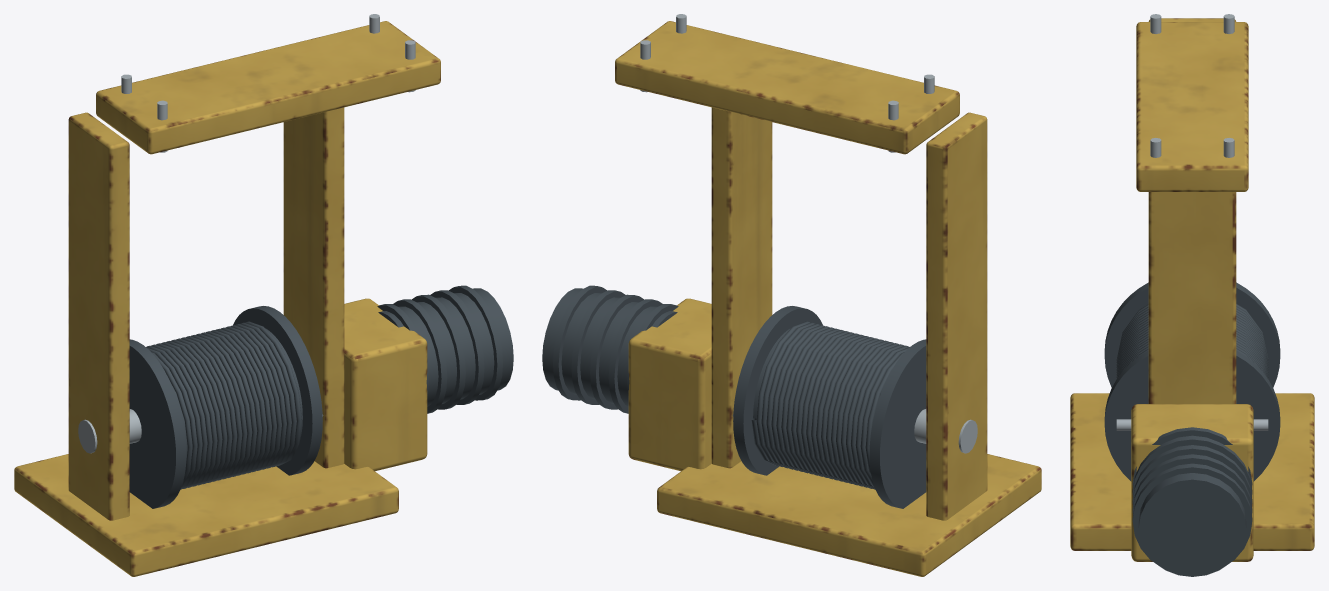
The model's file is provision_hoist_winch.glb.
3 views of the same model, side by side, from view 1: azimuth 30°, elevation 25°; view 2: azimuth 150°, elevation 25°; view 3: azimuth 270°, elevation 25° (orthographic). The views are drawn at different scales.
Parts seen in each view (by area): view 1: provision_hoist_winch, HoistDrum; view 2: provision_hoist_winch, HoistDrum; view 3: provision_hoist_winch, HoistDrum.
Part boxes in pixels (<box>): provision_hoist_winch: <box>14,14,513,576</box>; HoistDrum: <box>129,306,323,508</box>; provision_hoist_winch: <box>542,14,1041,576</box>; HoistDrum: <box>732,306,926,508</box>; provision_hoist_winch: <box>1070,14,1314,576</box>; HoistDrum: <box>1104,282,1280,481</box>.
Size of the model in its own units: 2.01 by 1.99 by 1.
4 materials, 1 textured.
